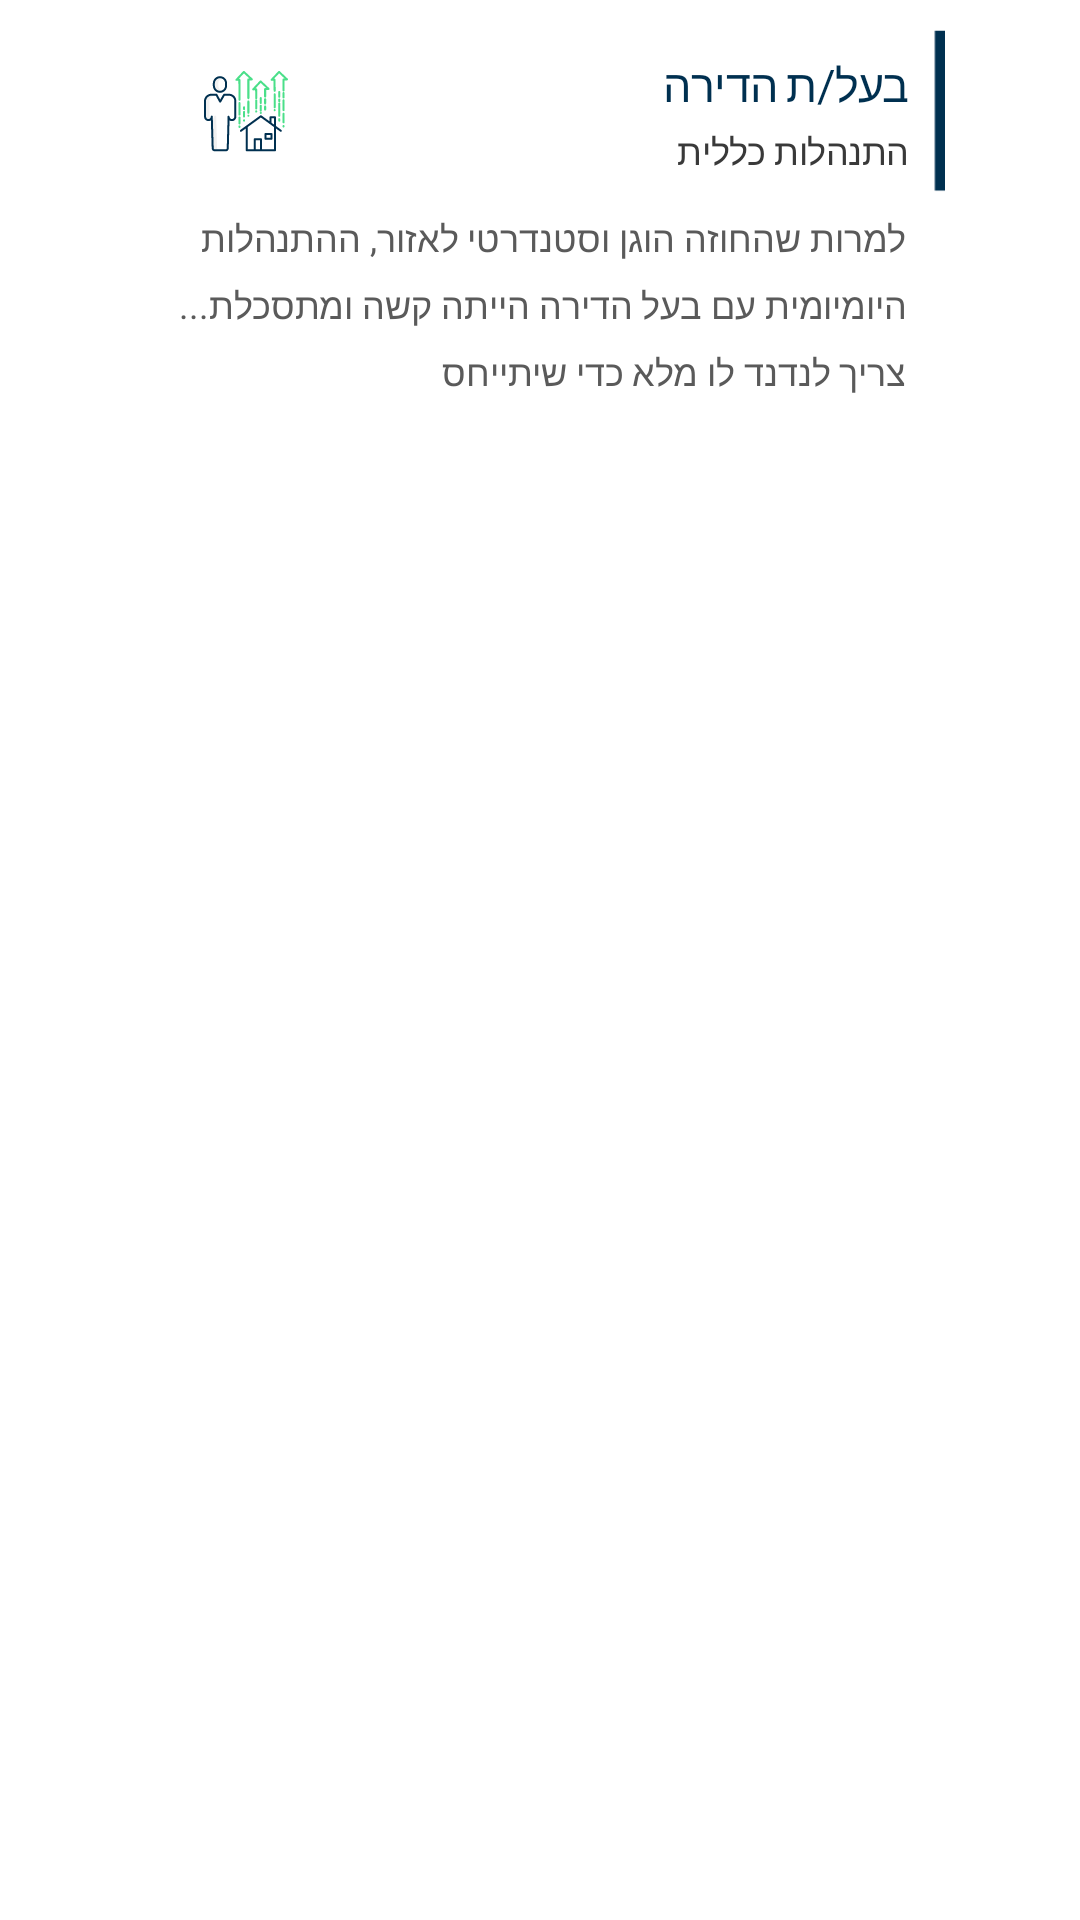

Screen size 1080*1920. Icon name, then its center in pixels as (x,y):
opinion householder: (246,111)
